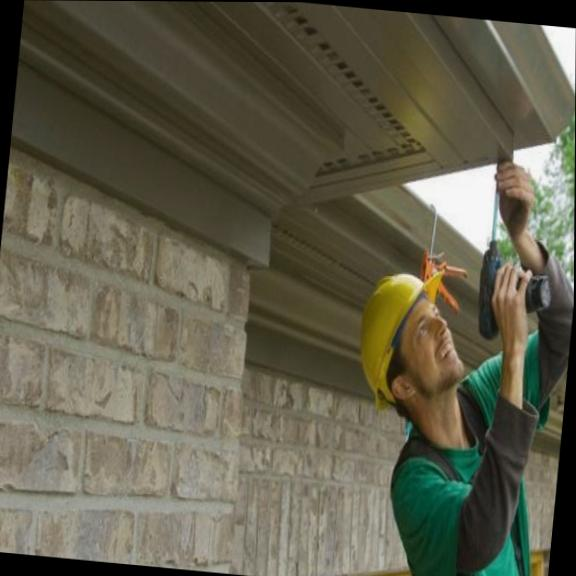no_safety_vest: (389, 383, 540, 576)
